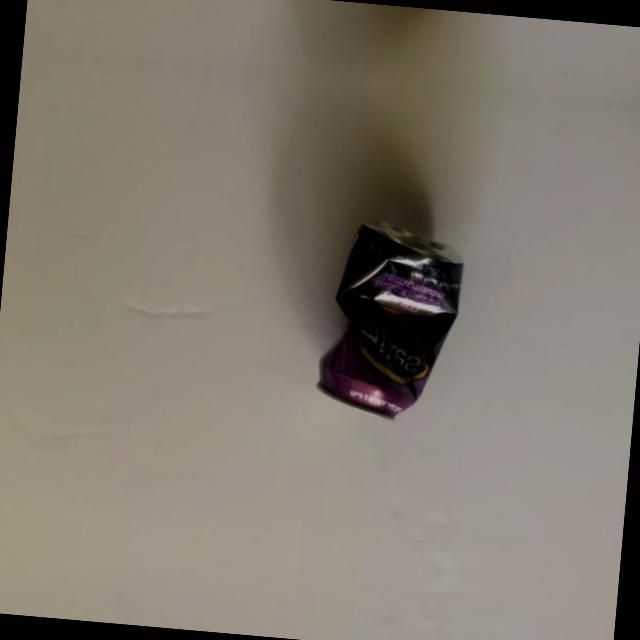Metal: (262, 202, 501, 451)
